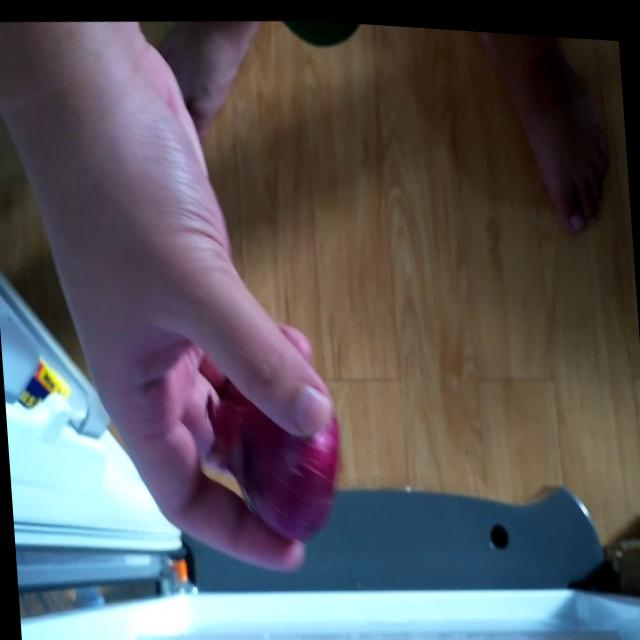onion: (216, 375, 346, 531)
